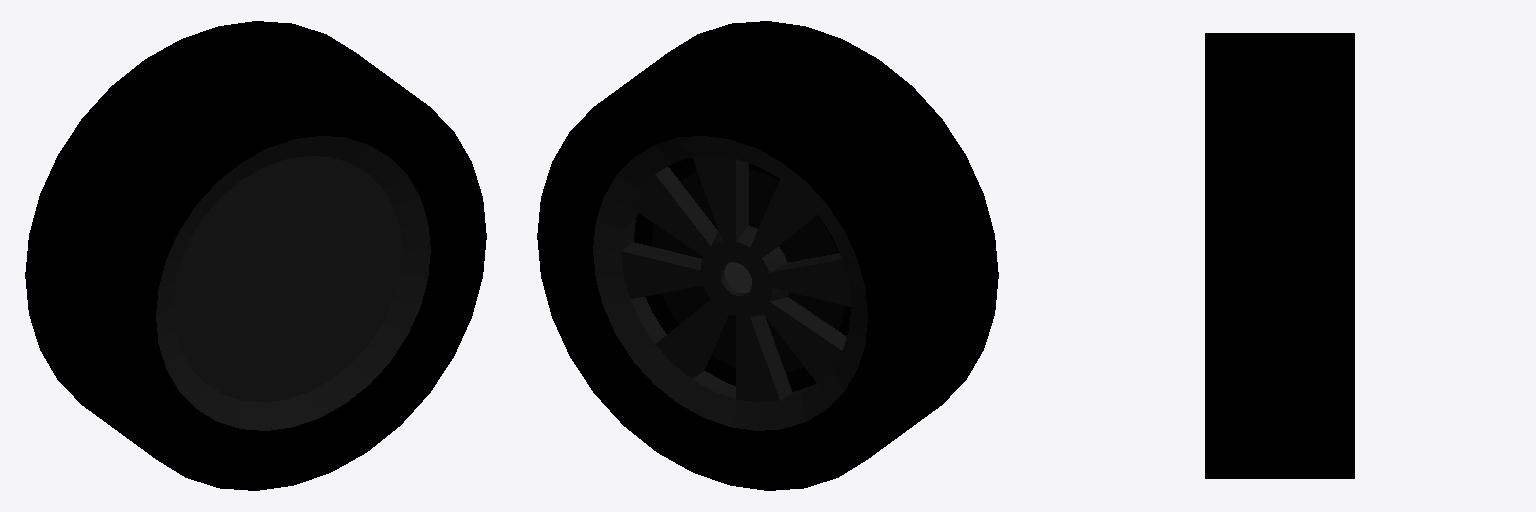
The model's file is Tofu_Car_Wheel.obj.
The picture shows the model from 3 angles: view 1: azimuth 30°, elevation 25°; view 2: azimuth 150°, elevation 25°; view 3: azimuth 270°, elevation 25°; orthographic projection.
Visible parts, largest first — view 1: Wheel; view 2: Wheel; view 3: Wheel.
Boxes of the visible parts, box(x1,y1,x2,y2) form: Wheel: box(25, 21, 486, 490); Wheel: box(537, 21, 998, 490); Wheel: box(1205, 33, 1354, 478).
Size of the model in its own units: 0.8379 by 0.8379 by 0.2808.